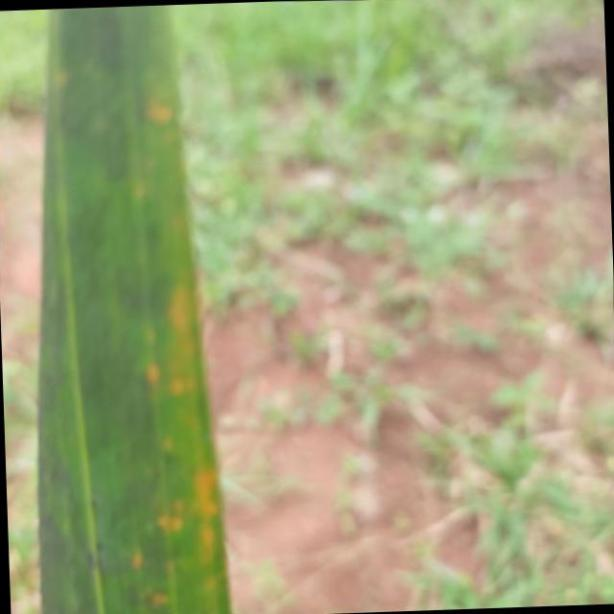Kalium: (38, 0, 232, 614)
